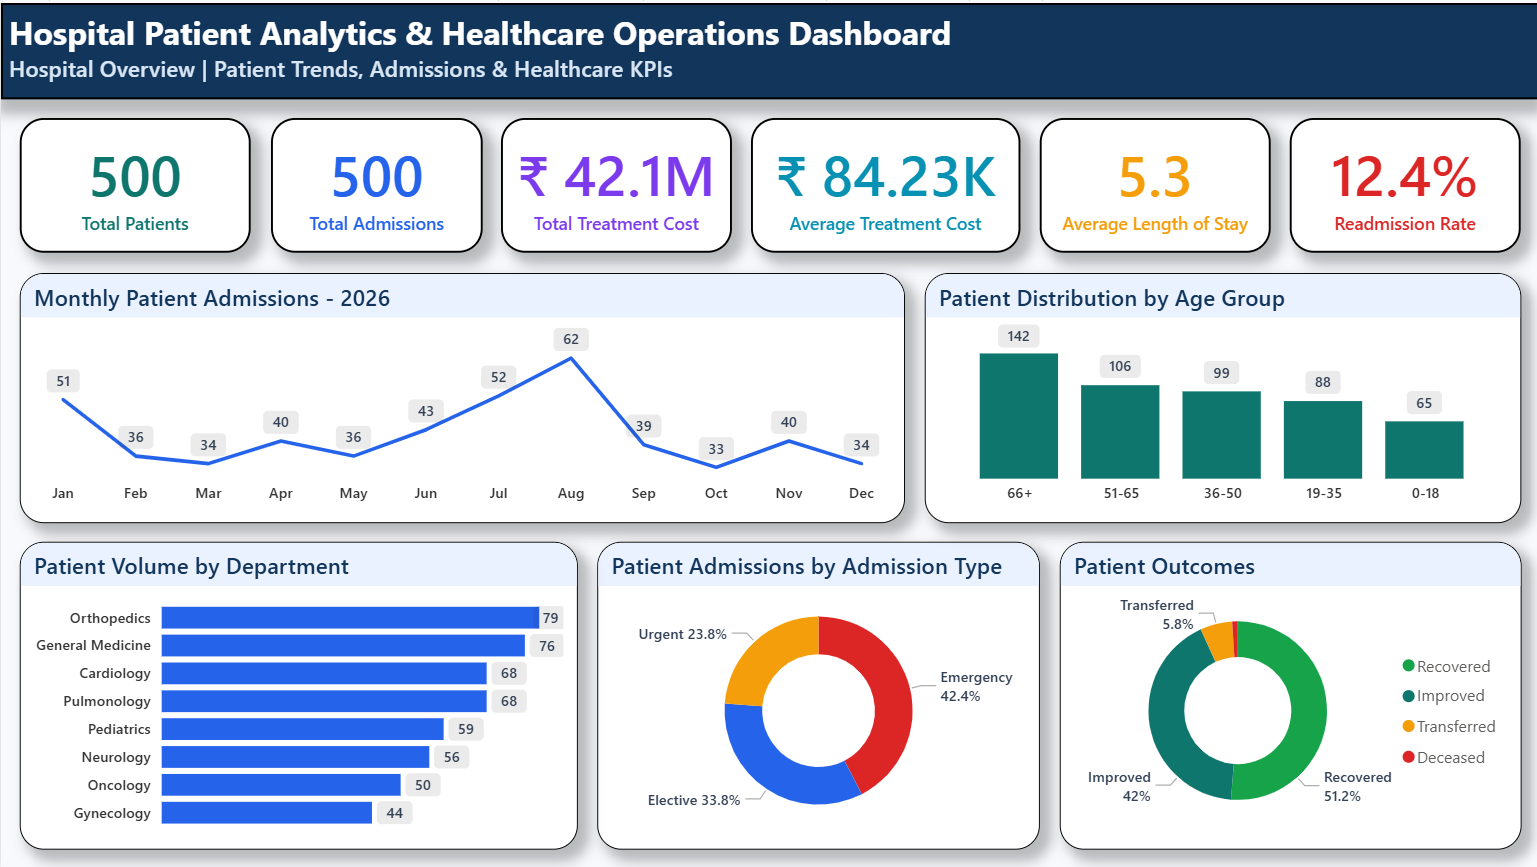

Layout of this report page (visuals, bound fields, positions):
{"tool":"powerbi","page":{"name":"Hospital Overview","canvas":[1280,720],"ordinal":0},"visuals":[{"type":"textbox","box":[0,0,1280,80],"z":0},{"type":"card","fields":{"Values":["Table1.Total Patients"]},"box":[16,96,192,112],"z":1000},{"type":"card","fields":{"Values":["Table1.Readmission Rate"]},"box":[1072,96,192,112],"z":2000},{"type":"card","fields":{"Values":["Table1.Total Admissions"]},"box":[224,96,176,112],"z":3000},{"type":"card","fields":{"Values":["Table1.Total Treatment Cost"]},"box":[416,96,192,112],"z":4000},{"type":"card","fields":{"Values":["Table1.Average Treatment Cost"]},"box":[624,96,224,112],"z":5000},{"type":"card","fields":{"Values":["Table1.Average Length of Stay"]},"box":[864,96,192,112],"z":6000},{"type":"lineChart","title":"Monthly Patient Admissions - 2026","fields":{"Y":["Table1.Total Admissions"],"Category":["Table1.Month_short"]},"box":[16,224,736,208],"z":7000},{"type":"donutChart","title":"Patient Admissions by Admission Type","fields":{"Category":["Table1.Admission_Type"],"Y":["Table1.Total Admissions"]},"box":[496,448,368,256],"z":8000},{"type":"donutChart","title":"Patient Outcomes ","fields":{"Category":["Table1.Outcome"],"Y":["Table1.Total Patients"]},"box":[880,448,384,256],"z":9000},{"type":"clusteredColumnChart","title":"Patient Distribution by Age Group","fields":{"Category":["Table1.Age_Group"],"Y":["Table1.Total Patients"]},"box":[768,224,496,208],"z":10000},{"type":"clusteredBarChart","title":"Patient Volume by Department","fields":{"Category":["Table1.Department"],"Y":["Table1.Total Patients"]},"box":[16,448,464,256],"z":11000}]}

Visuals, with their boxes in screenshot pixels (x1, y1, x2, y2), scaled from the page's 1280x720 canvas onto the 1537x867 screenshot:
textbox: 0 0 1536 96
card - Table1.Total Patients: 19 116 250 250
card - Table1.Readmission Rate: 1287 116 1518 250
card - Table1.Total Admissions: 269 116 480 250
card - Table1.Total Treatment Cost: 500 116 730 250
card - Table1.Average Treatment Cost: 749 116 1018 250
card - Table1.Average Length of Stay: 1037 116 1268 250
"Monthly Patient Admissions - 2026" lineChart: 19 270 903 520
"Patient Admissions by Admission Type" donutChart: 596 539 1037 848
"Patient Outcomes " donutChart: 1057 539 1518 848
"Patient Distribution by Age Group" clusteredColumnChart: 922 270 1518 520
"Patient Volume by Department" clusteredBarChart: 19 539 576 848
